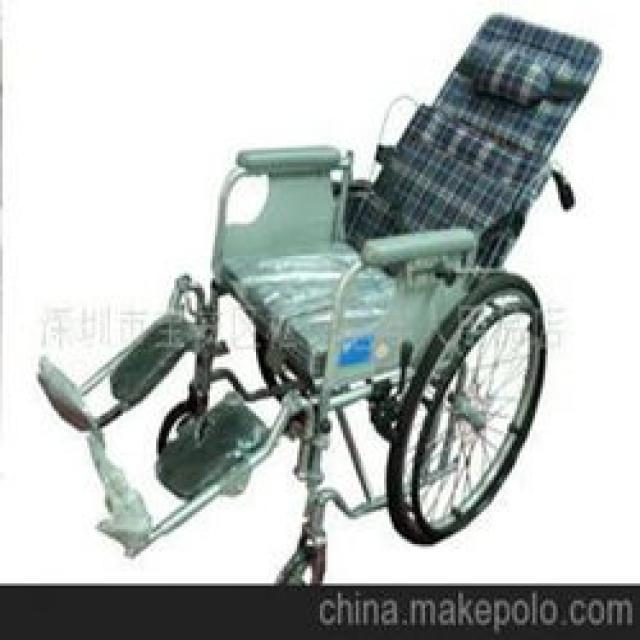wheelchairs: (44, 20, 598, 579)
